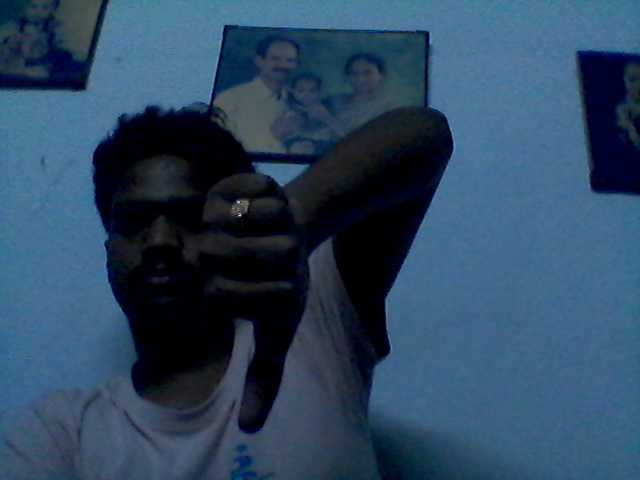Please: (190, 166, 326, 444)
